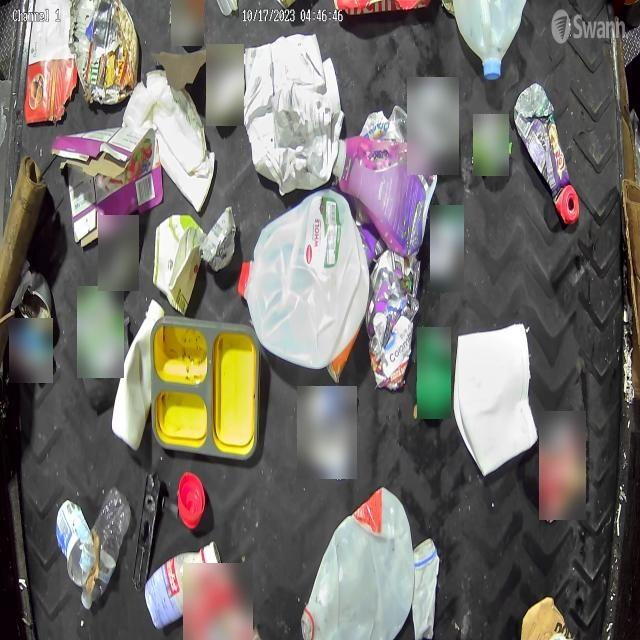milk_jug: (240, 188, 368, 370), (302, 484, 417, 640), (451, 0, 530, 76)
non_white_jug: (338, 106, 438, 260)
plastic_bottle: (78, 486, 130, 609)
